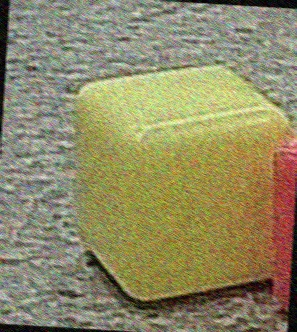yellow_cube: (52, 45, 297, 310)
